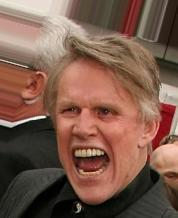face: (60, 100, 122, 180)
